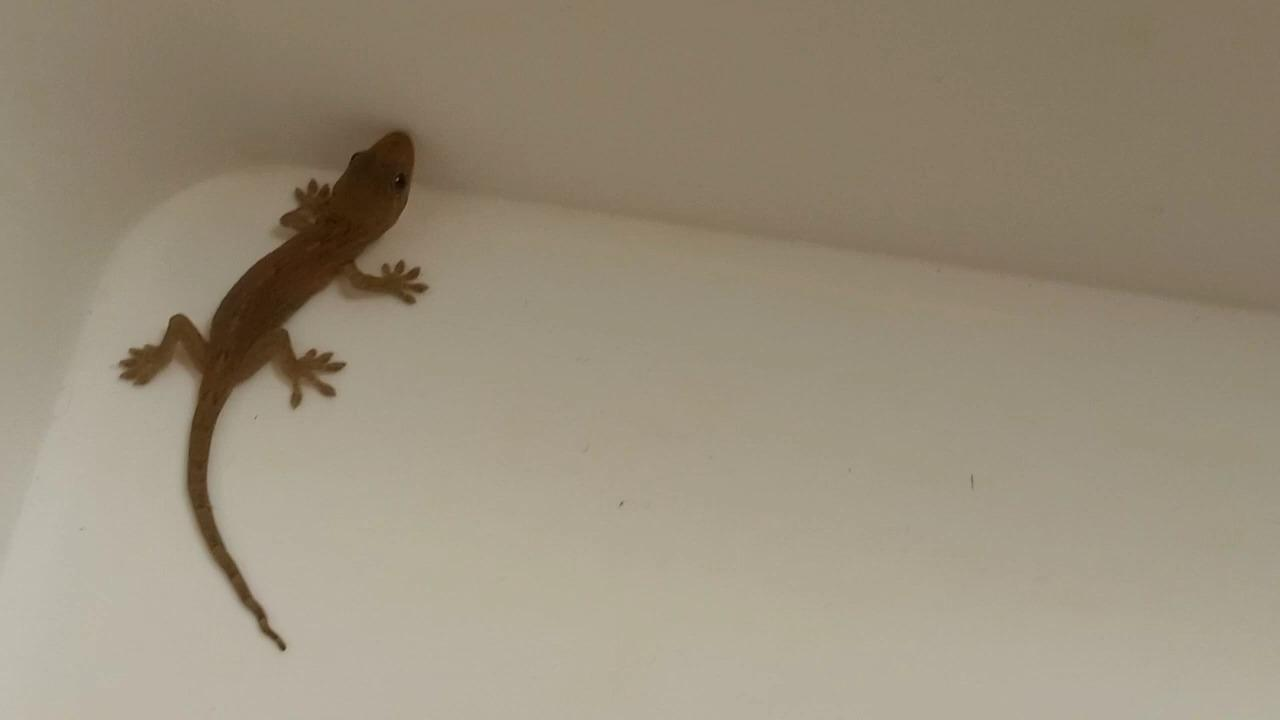lizard: (104, 110, 445, 669)
